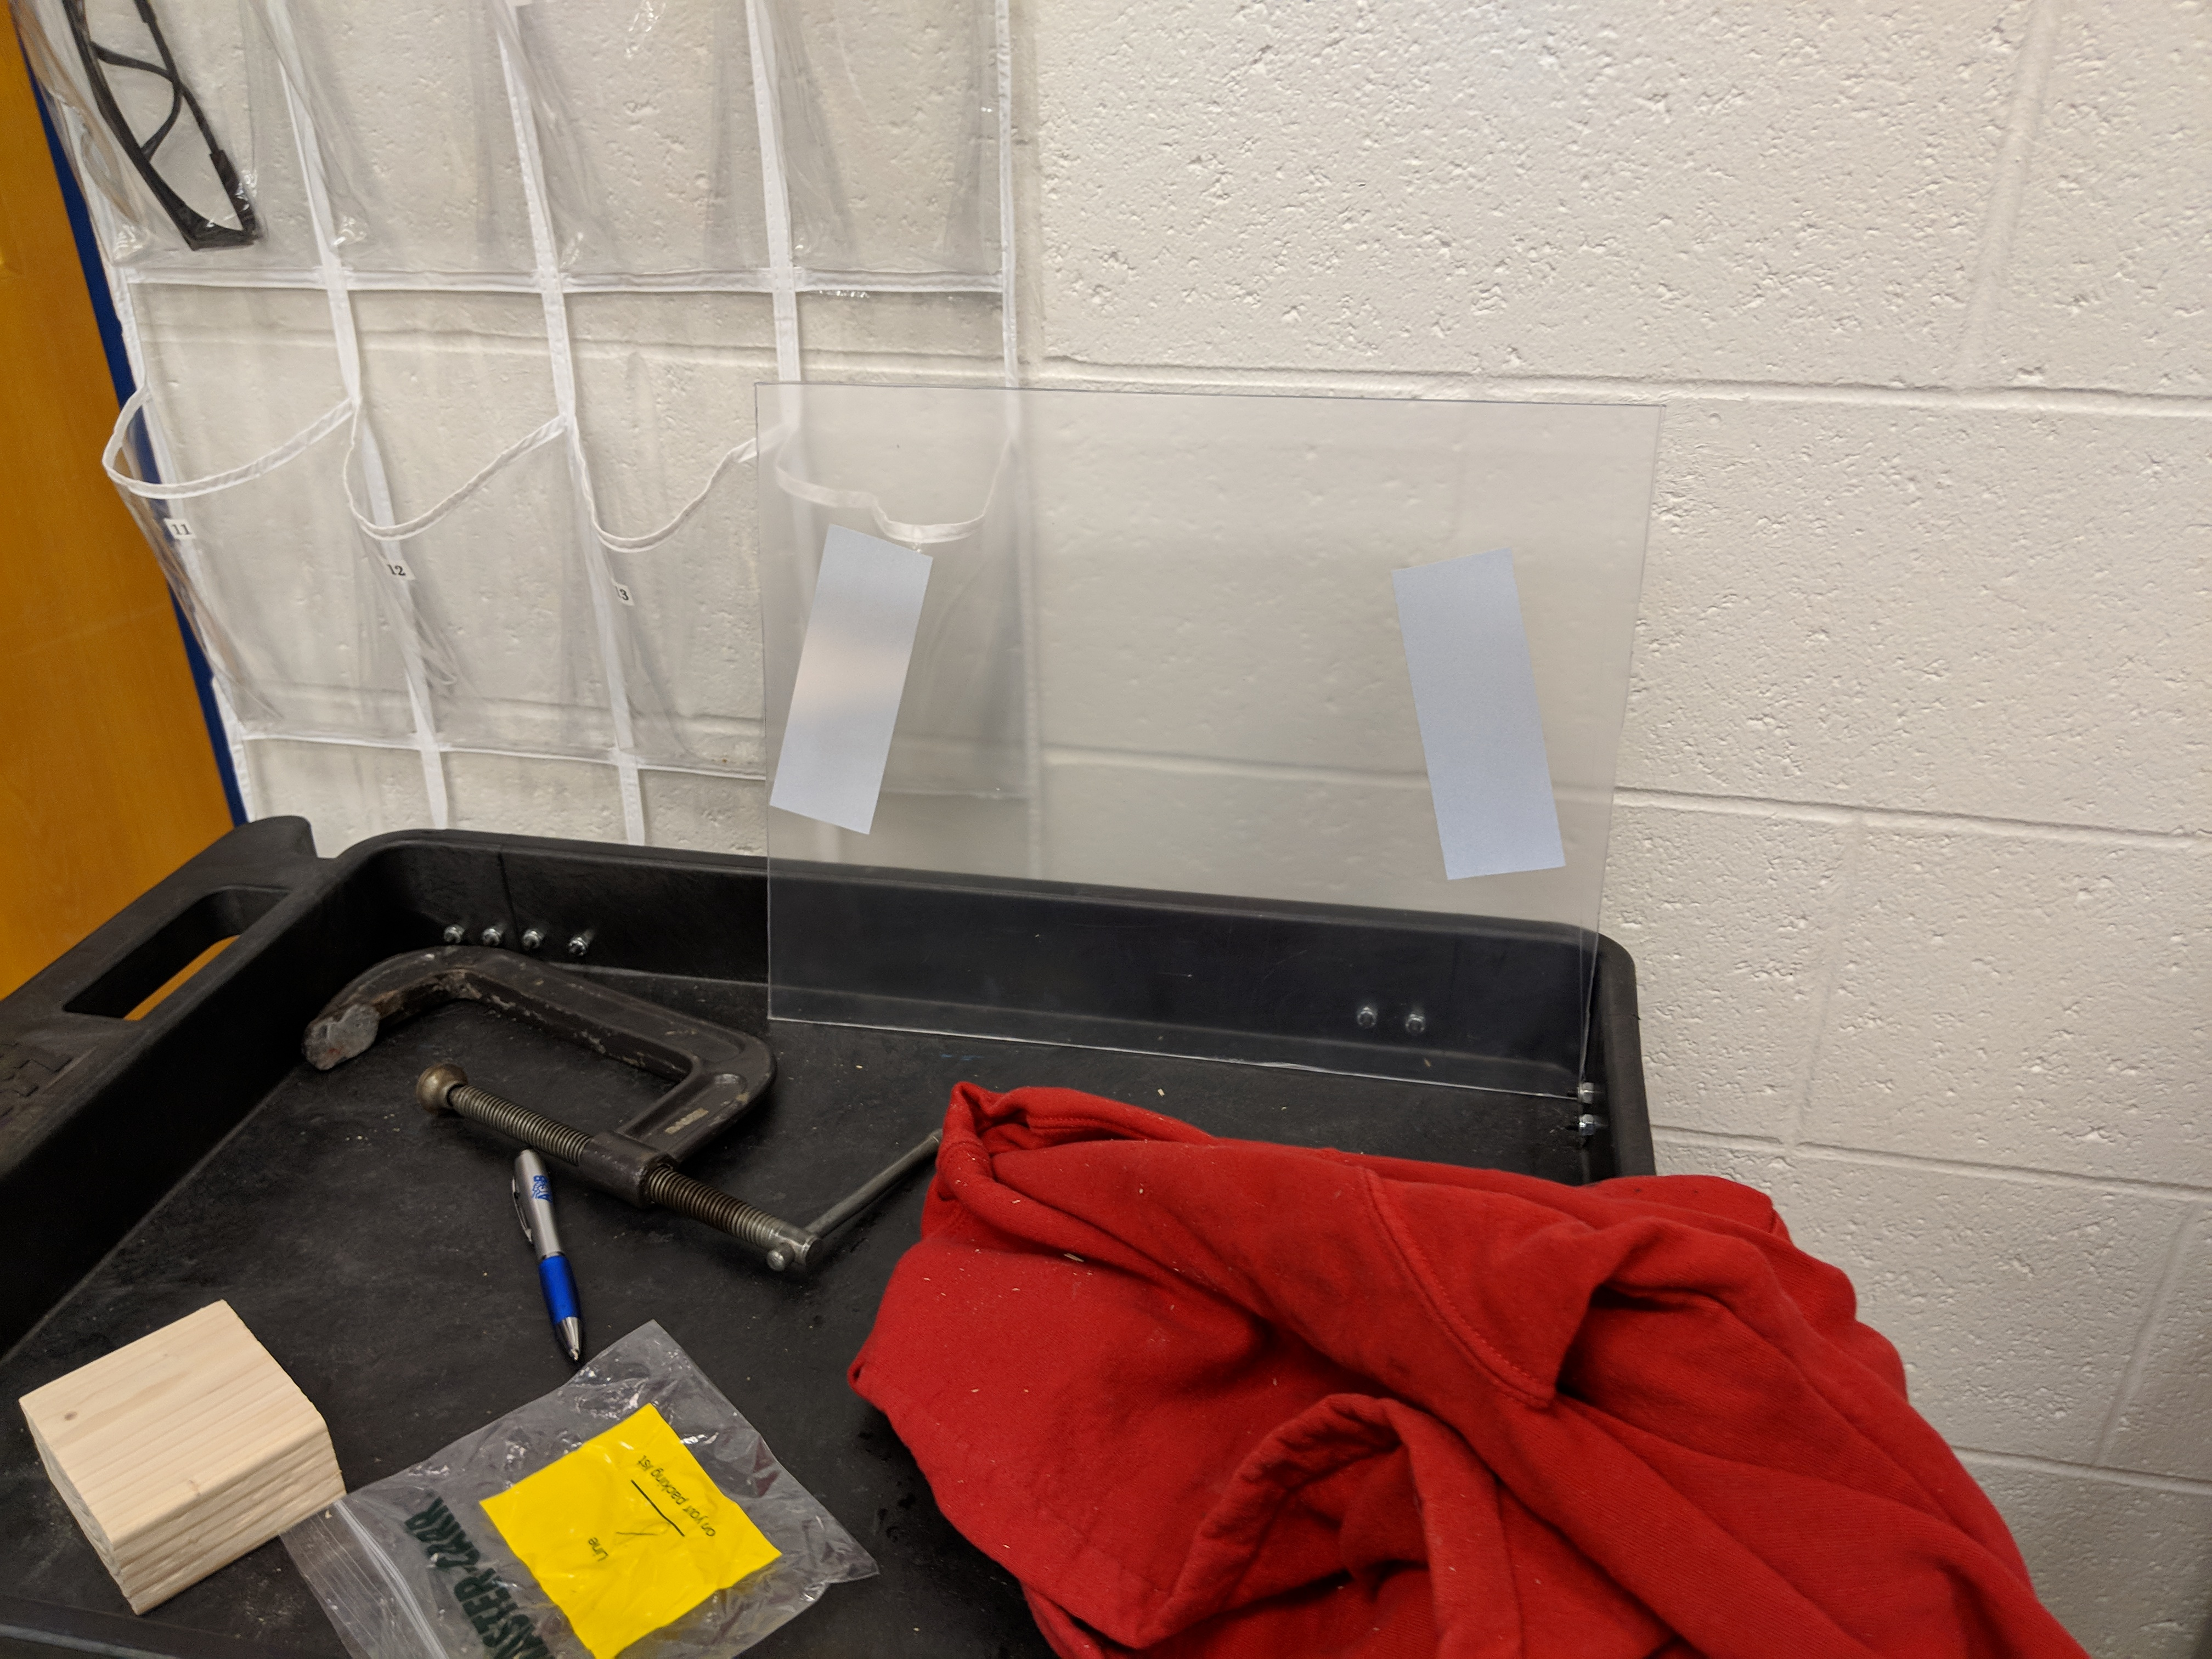vision_target: (763, 519, 1578, 887)
